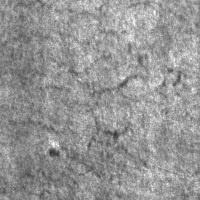crazing: (42, 23, 187, 106), (22, 117, 150, 191)
